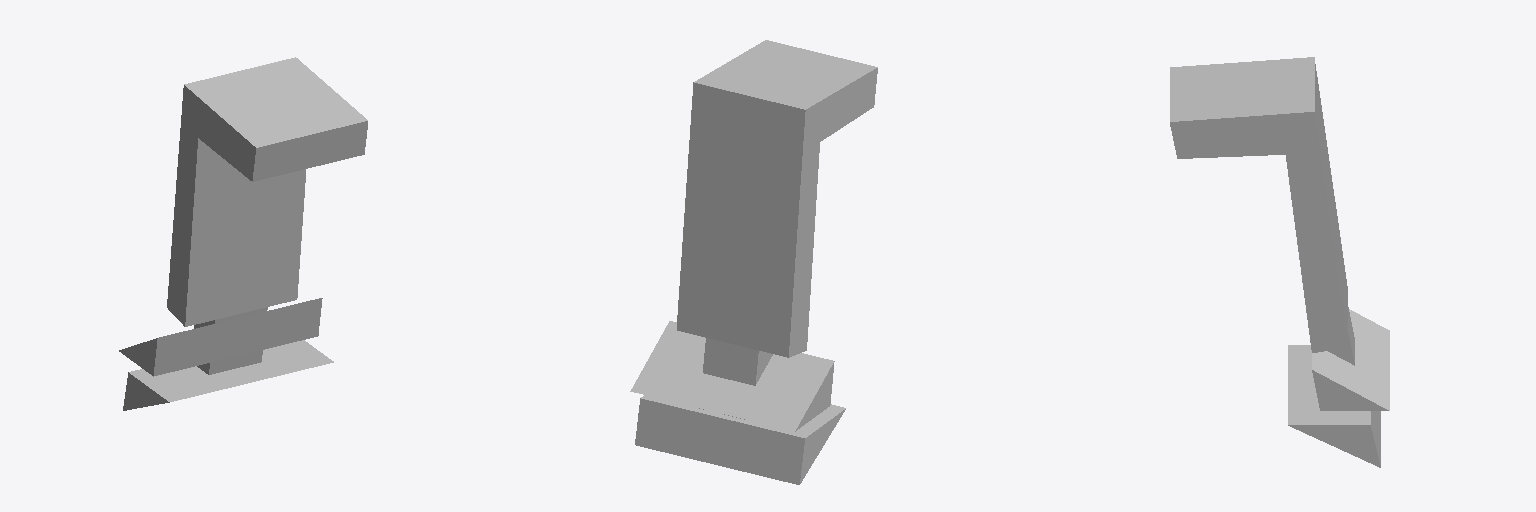
File: coaster_inv.obj
3 renders of one model, left to right at view 1: azimuth 30°, elevation 25°; view 2: azimuth 150°, elevation 25°; view 3: azimuth 270°, elevation 25°, orthographic.
Parts seen in each view (by area): view 1: Cube.003; view 2: Cube.003; view 3: Cube.003.
Boxes of the visible parts, <box> form: Cube.003: <box>119,57,367,410</box>; Cube.003: <box>630,40,877,484</box>; Cube.003: <box>1170,57,1389,467</box>.
Bounding box in the file's own units: 1.3 × 2.59 × 1.5.